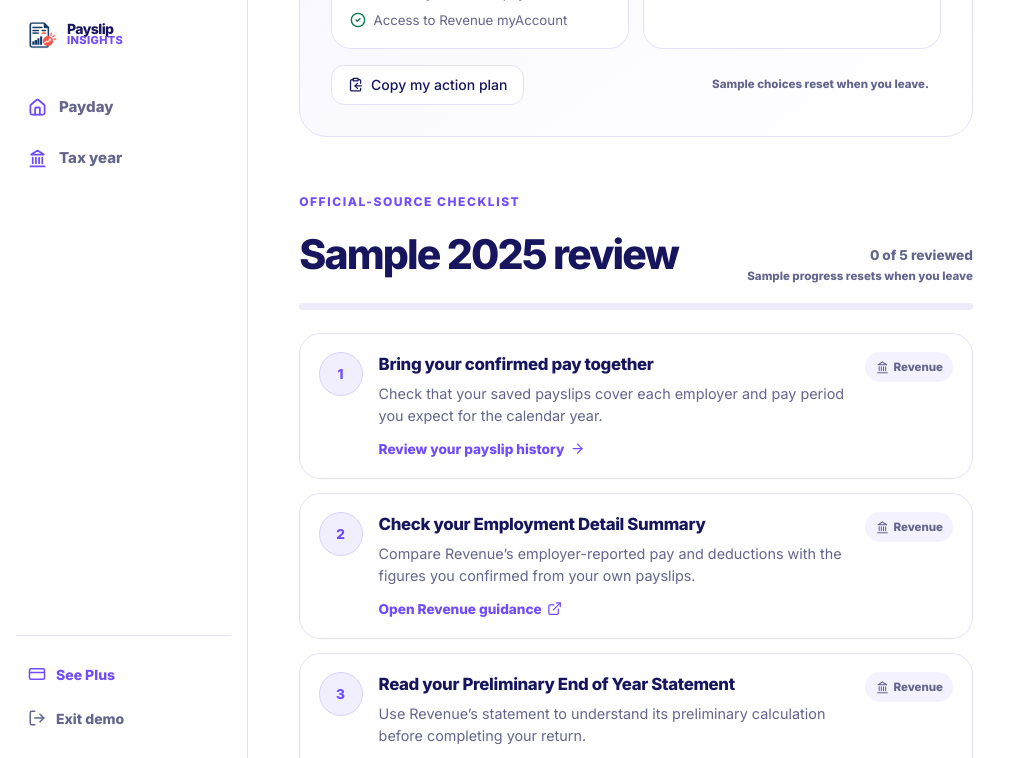
Test: TaxHelper › tracks checklist progress only after an explicit review action
(page scrolled)
Click the button named "mark as reviewed: bring your confirmed pay together". click: (341,374)
box: [319,352,363,396]
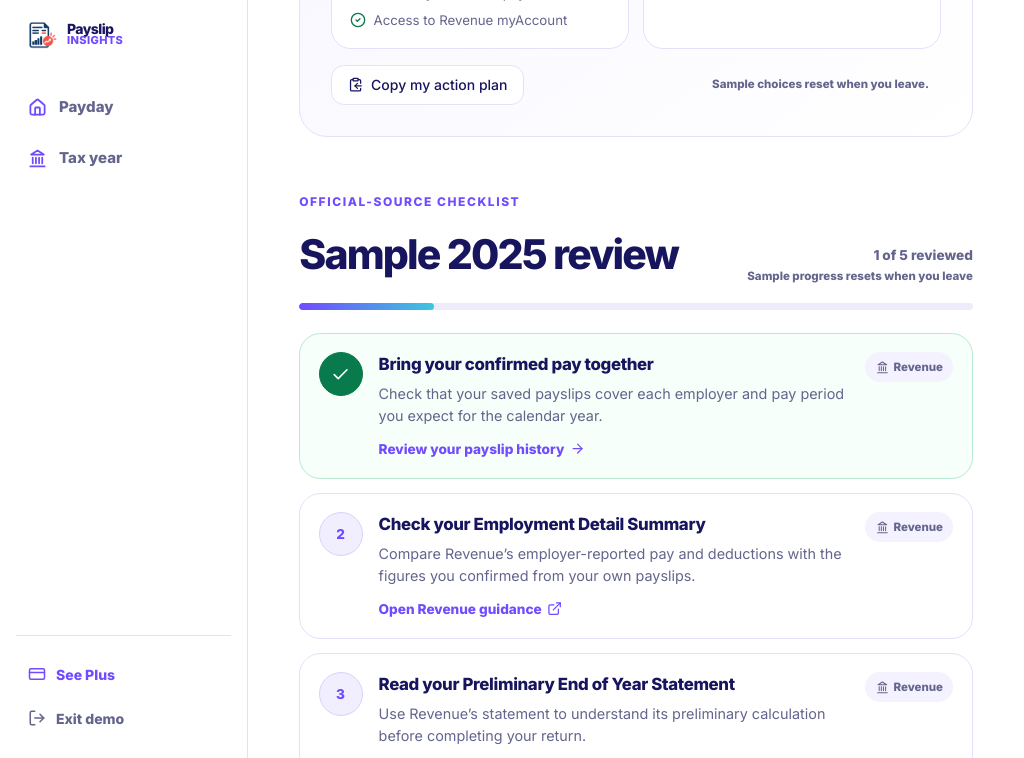
Expected: the text "1 of 5 reviewed" is shown, [873,245,973,265]
